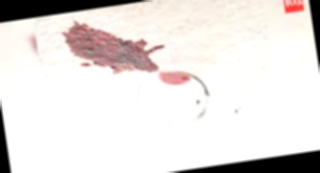wine: (59, 11, 168, 92)
